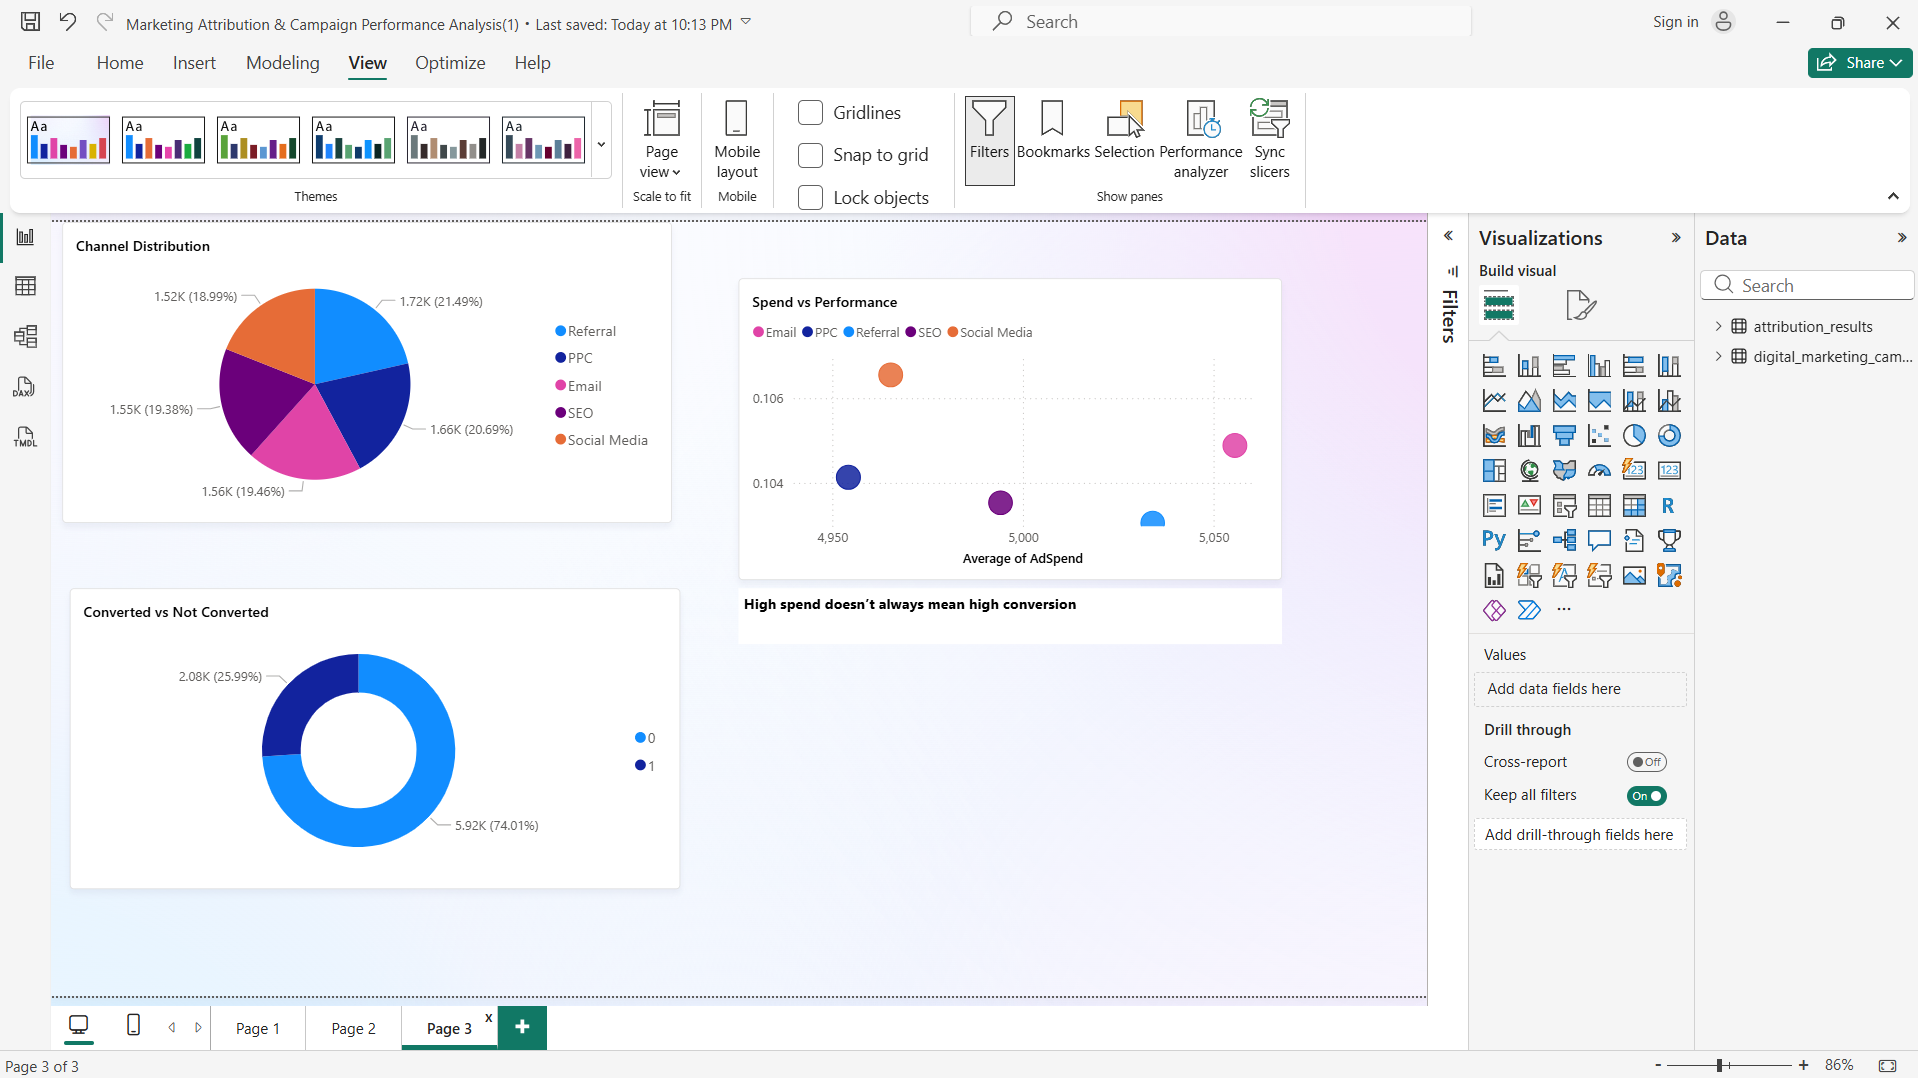

The dashboard page shown, as its layout file describes it:
{"tool":"powerbi","page":{"name":"Page 3","canvas":[1280,720],"ordinal":2},"visuals":[{"type":"pieChart","title":"Channel Distribution","fields":{"Category":["digital_marketing_campaign_dataset.CampaignChannel"],"Y":["CountNonNull(digital_marketing_campaign_dataset.CustomerID)"]},"box":[10,0,567.5,280],"z":0},{"type":"donutChart","title":"Converted vs Not Converted","fields":{"Category":["digital_marketing_campaign_dataset.Conversion"],"Y":["CountNonNull(digital_marketing_campaign_dataset.CustomerID)"]},"box":[17.8,341.1,567.8,280],"z":1000},{"type":"scatterChart","title":"Spend vs Performance","fields":{"X":["Avg(digital_marketing_campaign_dataset.AdSpend)"],"Y":["Avg(digital_marketing_campaign_dataset.ConversionRate)"],"Series":["digital_marketing_campaign_dataset.CampaignChannel"],"Size":["Avg(digital_marketing_campaign_dataset.ClickThroughRate)"]},"box":[640,52.2,505.6,281.1],"z":2000},{"type":"textbox","box":[640,341.1,505.6,52.2],"z":3000}]}

Visuals, with their boxes on the page's 1280x720 design canvas (x1, y1, x2, y2). These are canvas units, not pixel positions in the 1918x1078 screenshot, which may show the page scaled, cropped or inside an application window:
"Channel Distribution" pieChart: pyautogui.locateOnScreen(10, 0, 578, 280)
"Converted vs Not Converted" donutChart: pyautogui.locateOnScreen(18, 341, 586, 621)
"Spend vs Performance" scatterChart: pyautogui.locateOnScreen(640, 52, 1146, 333)
textbox: pyautogui.locateOnScreen(640, 341, 1146, 393)
